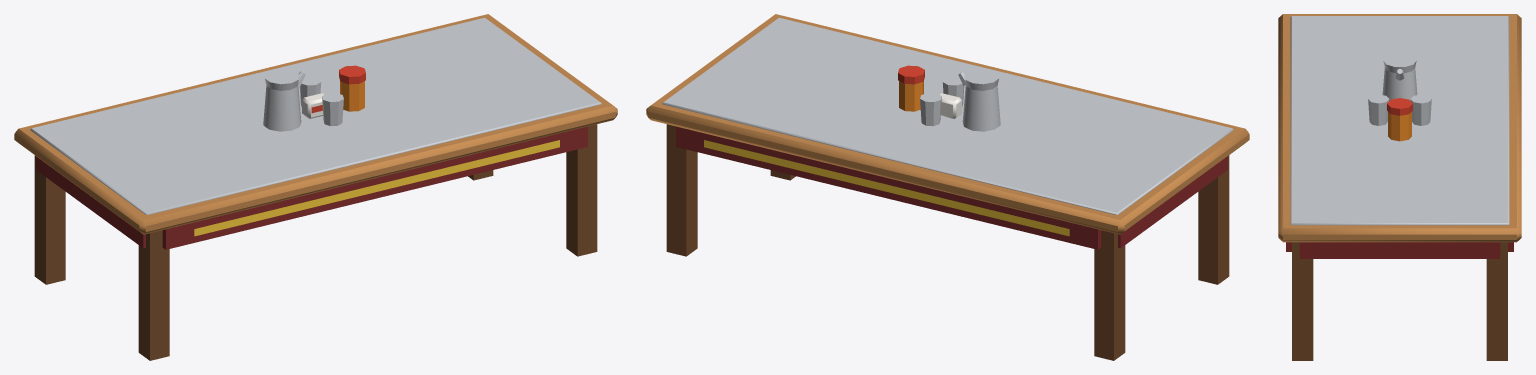
Rendered from dining_table.glb.
The picture shows the model from 3 angles, left to right: view 1: azimuth 30°, elevation 25°; view 2: azimuth 150°, elevation 25°; view 3: azimuth 270°, elevation 25°; orthographic projection. The views are drawn at different scales.
Parts seen in each view (by area): view 1: dining_table; view 2: dining_table; view 3: dining_table.
Part boxes in pixels (x1,y1,x2,y2): dining_table: (14, 14, 617, 360); dining_table: (646, 14, 1249, 360); dining_table: (1278, 14, 1521, 360).
Size of the model in its own units: 1.7 by 0.6664 by 0.8.
1 material, 1 textured.
